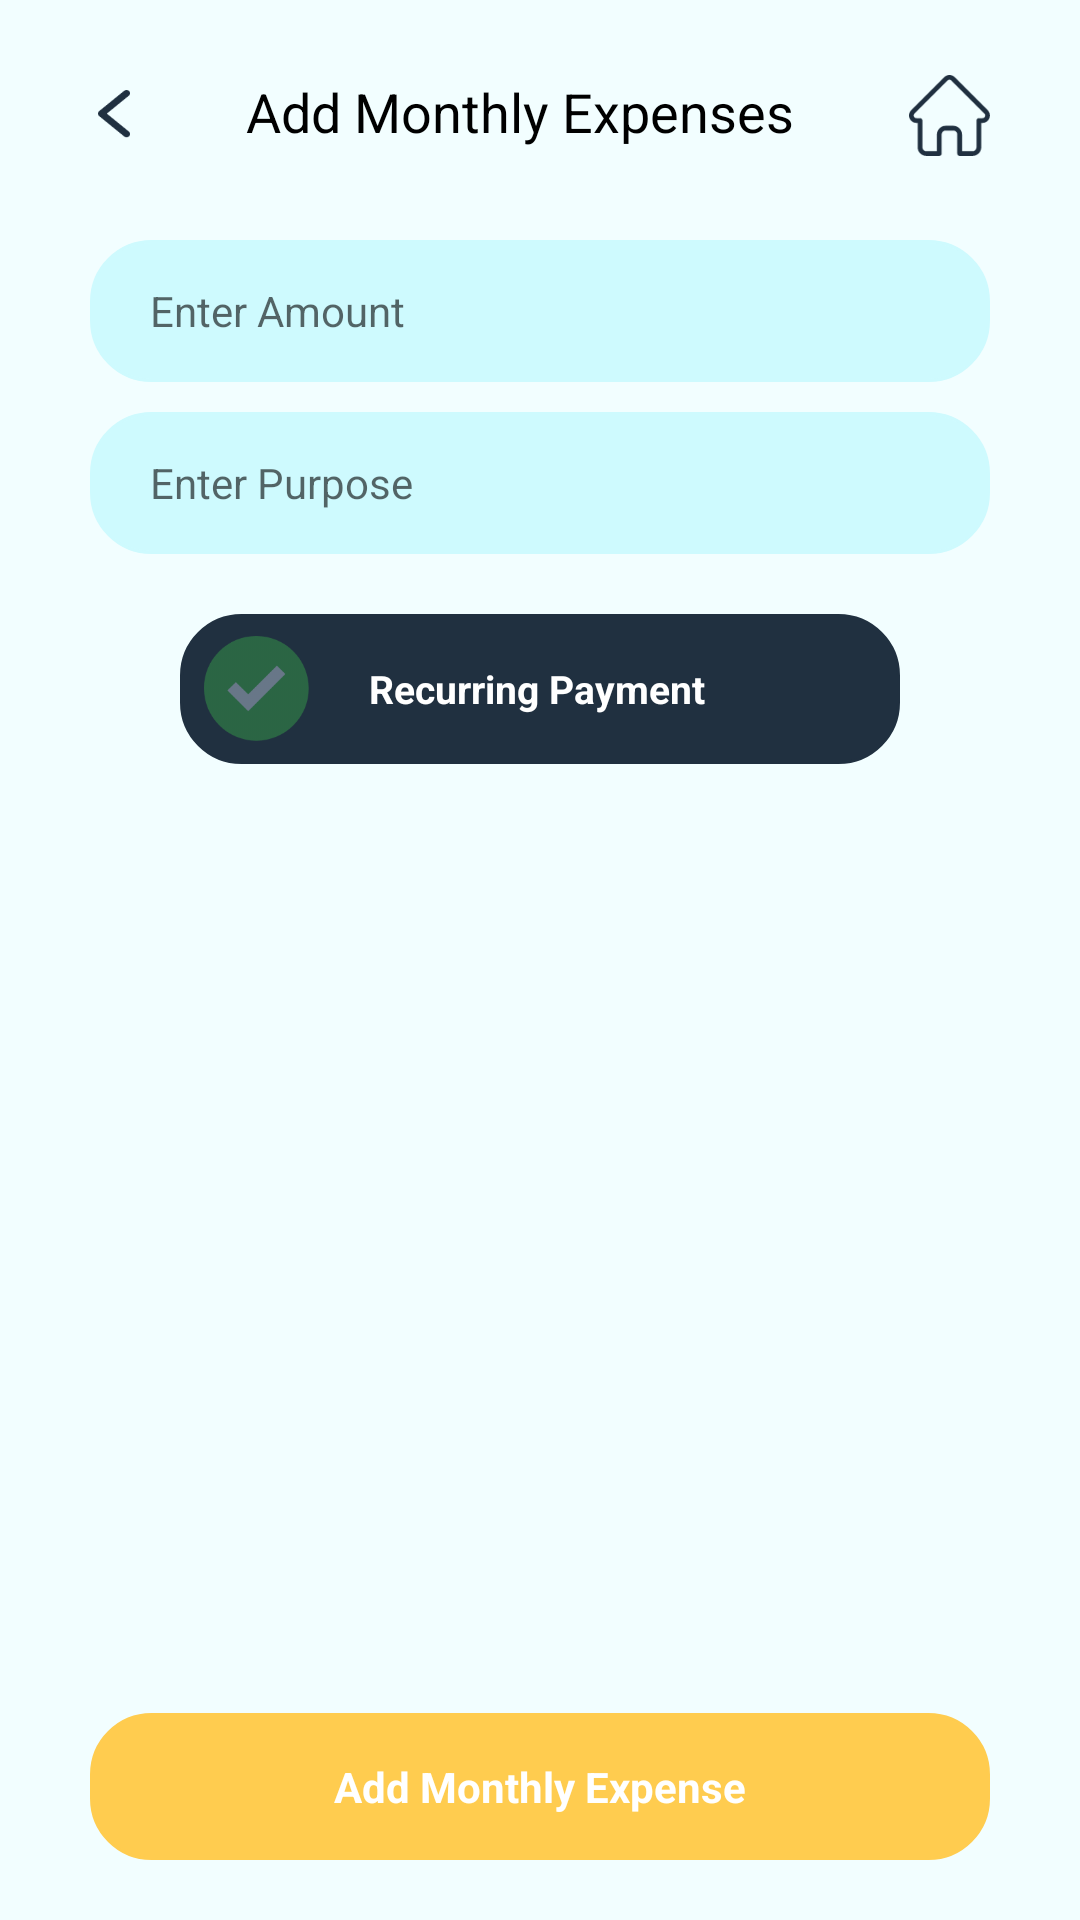

Where to tap for icons on this 1080px x 1920px app screen, as point (x, y):
back: point (114, 114)
check: point (256, 688)
home: point (949, 115)
